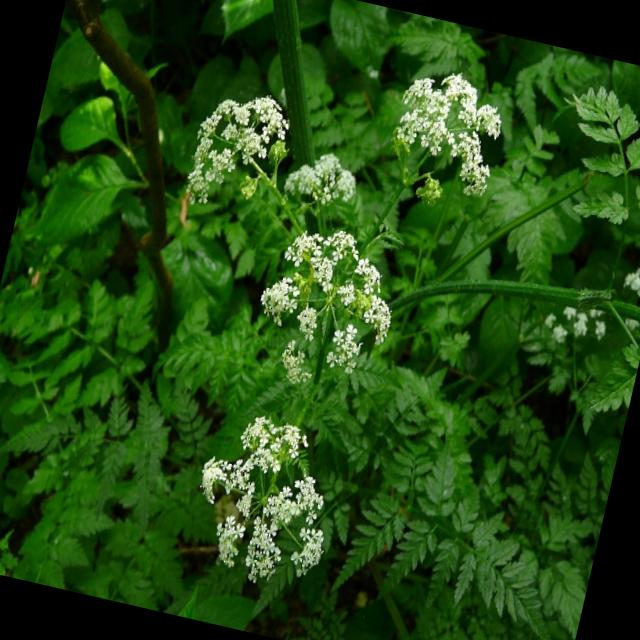Poisonous-Hemlock: (96, 15, 546, 622)
